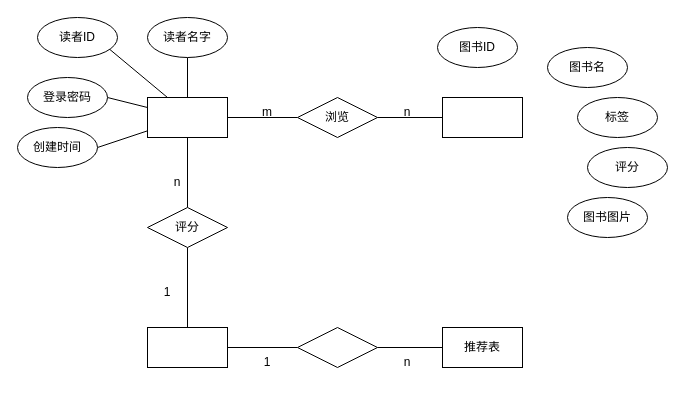
Some shapes in this 685 by 415 pixel diagram are drawn without their labels. The box of each missing label's shape, as (x1, y1, x2, y2) in pixels:
图书: (442, 96, 522, 138)
计算: (296, 326, 378, 368)
评分表: (146, 326, 228, 368)
读者: (146, 96, 228, 138)
